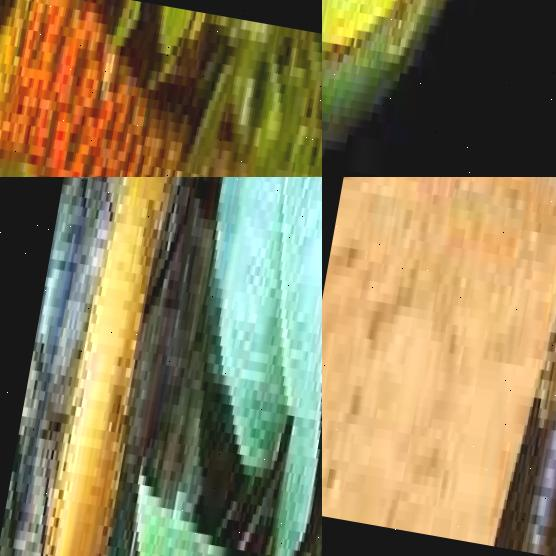snake: (41, 177, 322, 556), (322, 177, 556, 556), (0, 0, 322, 177), (322, 0, 516, 177)
